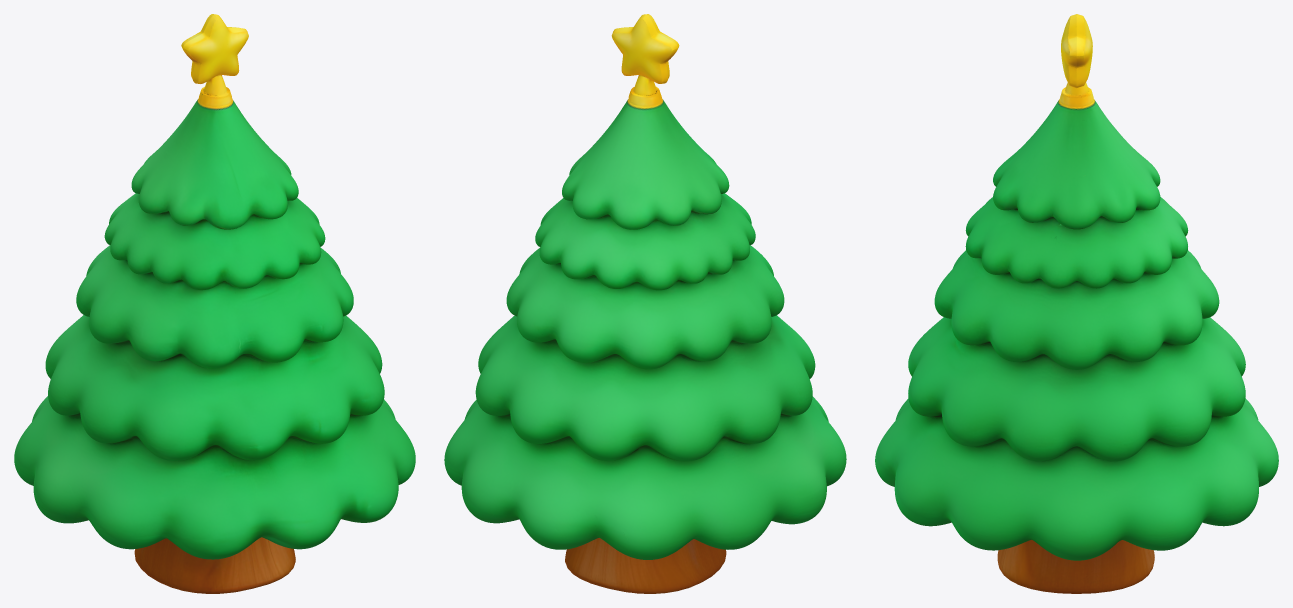
The model's file is christmas_tree.glb.
3 renders of one model, left to right at view 1: azimuth 30°, elevation 25°; view 2: azimuth 150°, elevation 25°; view 3: azimuth 270°, elevation 25°, orthographic.
Parts seen in each view (by area): view 1: model; view 2: model; view 3: model.
Part boxes in pixels (x1,y1,x2,y2): model: [14, 14, 415, 593]; model: [444, 14, 846, 593]; model: [875, 14, 1278, 593].
Bounding box in the file's own units: 1.27 × 1.9 × 1.27.
Materials: 1 (1 with a texture image).
